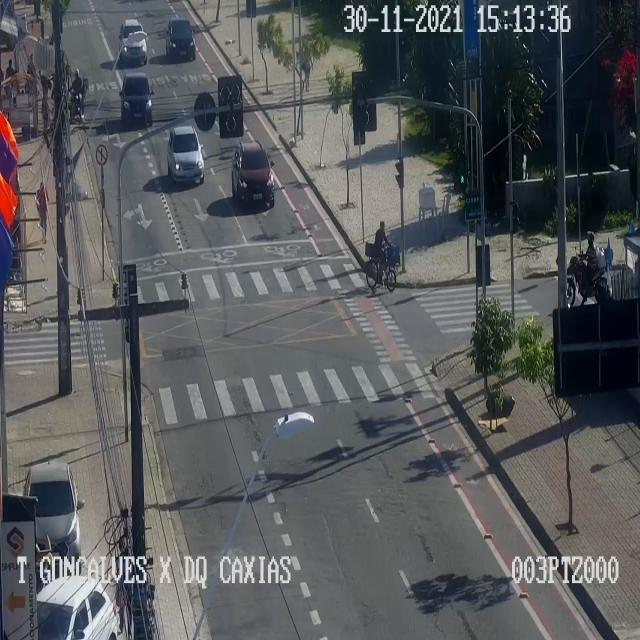Car: (24, 462, 80, 571), (36, 575, 116, 638), (232, 142, 274, 206), (167, 125, 203, 182), (120, 72, 152, 125), (118, 18, 146, 63), (165, 17, 195, 59)
Motorcycle: (566, 230, 608, 306), (69, 68, 85, 118)
